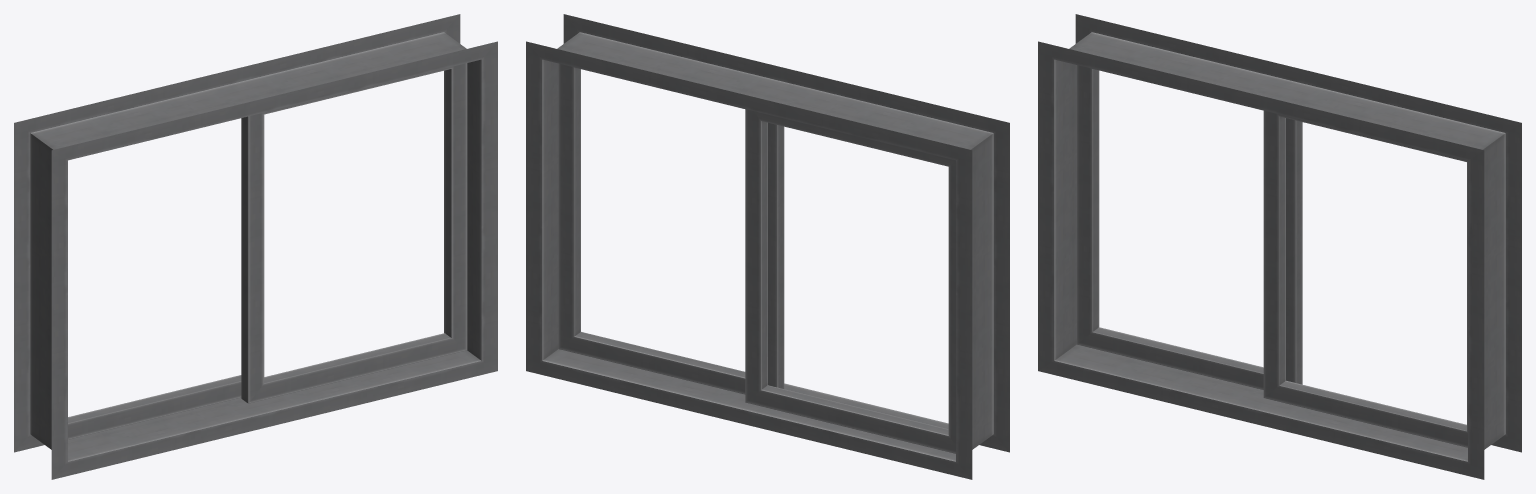
Rendered from window frame wide.FBX.
3 renders of one model, left to right at view 1: azimuth 30°, elevation 25°; view 2: azimuth 150°, elevation 25°; view 3: azimuth 330°, elevation 25°, orthographic.
Visible parts, largest first — view 1: window frame wide; view 2: window frame wide; view 3: window frame wide.
Part boxes in pixels (<box>): window frame wide: <box>14,14,497,479</box>; window frame wide: <box>526,14,1009,479</box>; window frame wide: <box>1038,14,1521,479</box>.
Bounding box in the file's own units: 68.75 × 10 × 48.53.
